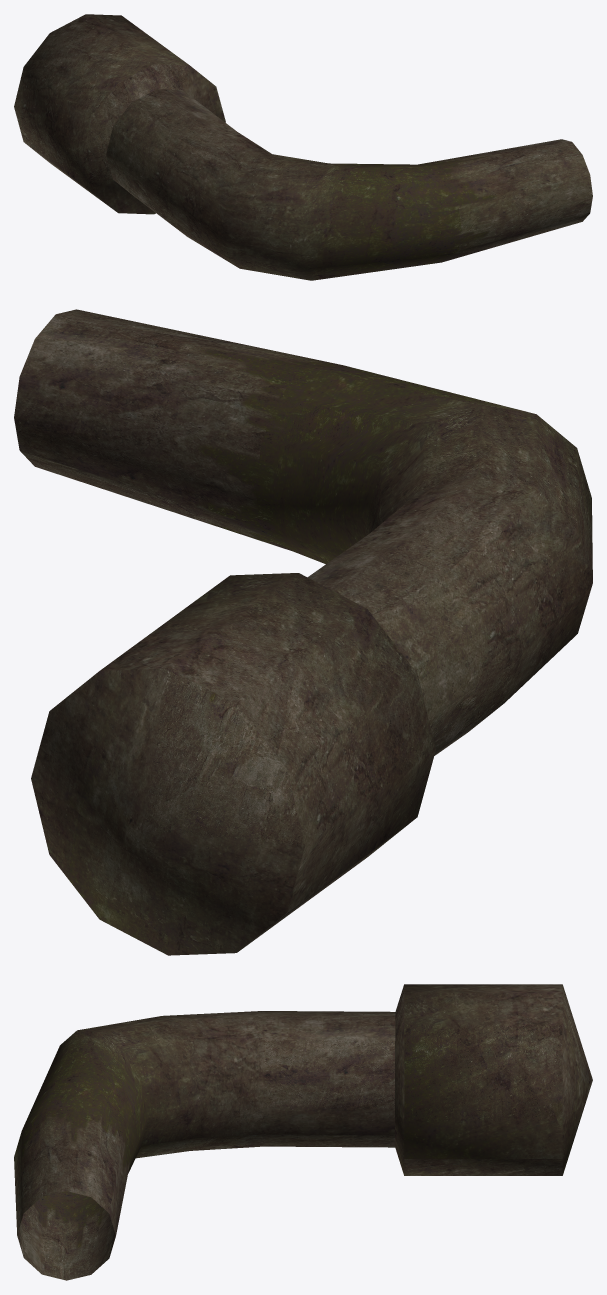
The model's file is TI_Chimney_Pipe_02.fbx.
3 views of the same model, one above another, from view 1: azimuth 30°, elevation 25°; view 2: azimuth 150°, elevation 25°; view 3: azimuth 270°, elevation 25° (orthographic). The views are drawn at different scales.
Visible parts, largest first — view 1: TI_Chimney_Pipe_02; view 2: TI_Chimney_Pipe_02; view 3: TI_Chimney_Pipe_02.
Boxes of the visible parts, x1,y1,x2,y2 form: TI_Chimney_Pipe_02: (14, 14, 592, 280); TI_Chimney_Pipe_02: (14, 309, 592, 955); TI_Chimney_Pipe_02: (14, 984, 592, 1280).
Bounding box in the file's own units: 1.83 × 0.7607 × 2.29.
